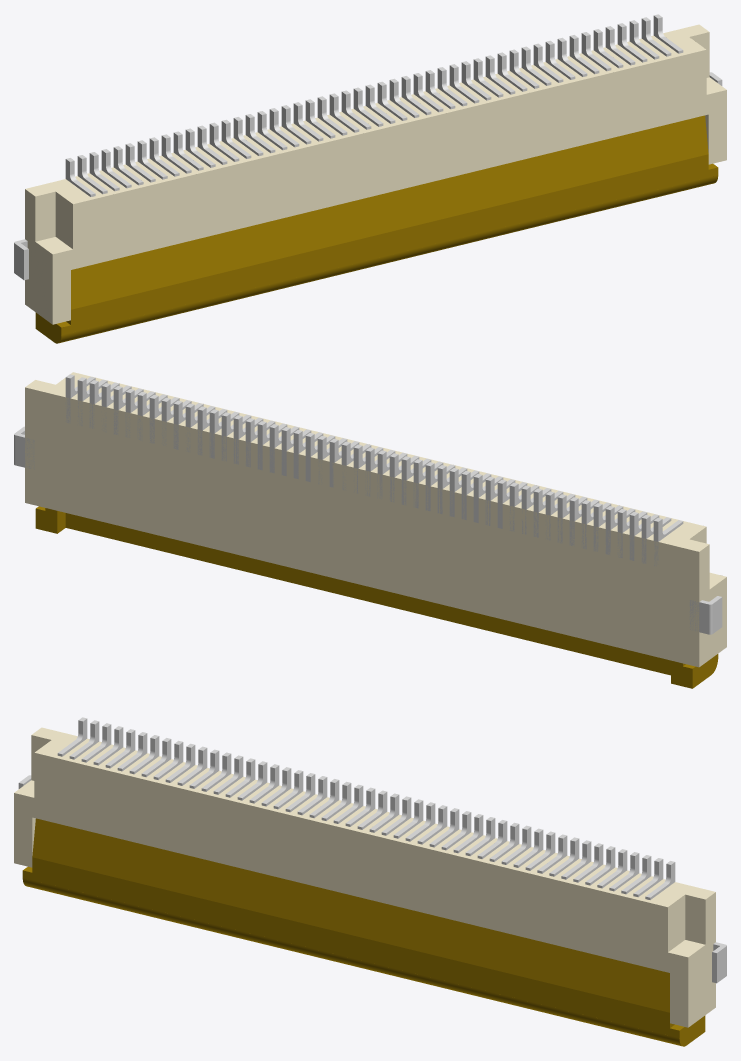
The model's file is Hirose_FH12-50S-0.5SH_1x50-1MP_P0.50mm_Horizontal.glb.
3 renders of one model, top to bottom at view 1: azimuth 30°, elevation 25°; view 2: azimuth 150°, elevation 25°; view 3: azimuth 330°, elevation 25°, orthographic.
Visible parts, largest first — view 1: Shape_IndexedFaceSet.005, Shape_IndexedFaceSet.023, Shape_IndexedFaceSet.016, Shape_IndexedFaceSet, Shape_IndexedFaceSet.018, Shape_IndexedFaceSet.008, Shape_IndexedFaceSet.007, Shape_IndexedFaceSet.006; view 2: Shape_IndexedFaceSet.001, Shape_IndexedFaceSet.030, Shape_IndexedFaceSet, Shape_IndexedFaceSet.008, Shape_IndexedFaceSet.026, Shape_IndexedFaceSet.618; view 3: Shape_IndexedFaceSet.005, Shape_IndexedFaceSet.023, Shape_IndexedFaceSet.016, Shape_IndexedFaceSet, Shape_IndexedFaceSet.018, Shape_IndexedFaceSet.002, Shape_IndexedFaceSet.003, Shape_IndexedFaceSet.004.
Boxes of the visible parts, x1,y1,x2,y2 form: Shape_IndexedFaceSet.005: (52, 49, 726, 324); Shape_IndexedFaceSet.023: (71, 115, 708, 309); Shape_IndexedFaceSet.016: (61, 154, 718, 334); Shape_IndexedFaceSet: (25, 24, 708, 204); Shape_IndexedFaceSet.018: (59, 175, 718, 343); Shape_IndexedFaceSet.008: (25, 189, 52, 324); Shape_IndexedFaceSet.007: (35, 191, 55, 241); Shape_IndexedFaceSet.006: (55, 192, 72, 248); Shape_IndexedFaceSet.001: (25, 387, 699, 667); Shape_IndexedFaceSet.030: (65, 513, 670, 675); Shape_IndexedFaceSet: (25, 372, 708, 551); Shape_IndexedFaceSet.008: (699, 544, 726, 666); Shape_IndexedFaceSet.026: (35, 508, 57, 533); Shape_IndexedFaceSet.618: (689, 600, 708, 634); Shape_IndexedFaceSet.005: (14, 752, 688, 1027); Shape_IndexedFaceSet.023: (32, 818, 669, 1012); Shape_IndexedFaceSet.016: (22, 857, 679, 1037); Shape_IndexedFaceSet: (32, 727, 715, 907); Shape_IndexedFaceSet.018: (22, 878, 681, 1046); Shape_IndexedFaceSet.002: (688, 892, 715, 1027); Shape_IndexedFaceSet.003: (685, 894, 705, 944); Shape_IndexedFaceSet.004: (668, 895, 685, 951).
Bounding box in the file's own units: 11.46 × 2.52 × 0.7874.
